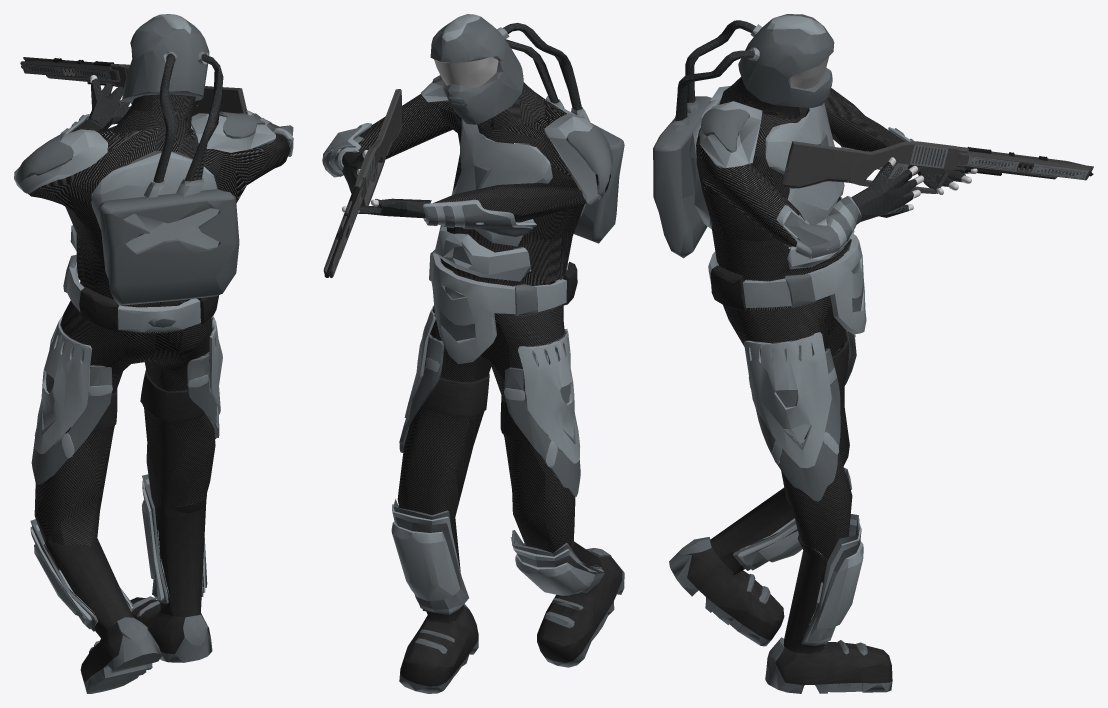
The model's file is AndarEscopeta.0011.obj.
3 renders of one model, left to right at view 1: azimuth 30°, elevation 25°; view 2: azimuth 150°, elevation 25°; view 3: azimuth 270°, elevation 25°, orthographic. The views are drawn at different scales.
Parts seen in each view (by area): view 1: personaje:extrudedSurface2 polySurface86, personaje:PANTALON polySurface86, personaje:bota1 polySurface86, personaje:CAMISETABUENA polySurface86, personaje:pPipe4 polySurface86, personaje:pCube4 polySurface86, personaje:cosoarmdaurapierna1 polySurface86, personaje:cinturon polySurface86, escopeta:Cylinder001 polySurface86, personaje:armadbota1 polySurface86, personaje:polySurface6 polySurface86, personaje:HOMBRO2 polySurface86 (+3 smaller); view 2: personaje:PANTALON polySurface86, personaje:CAMISETABUENA polySurface86, personaje:pPipe4 polySurface86, personaje:bota1 polySurface86, personaje:extrudedSurface2 polySurface86, personaje:cinturon polySurface86, personaje:pCube4 polySurface86, personaje:armadbota1 polySurface86, personaje:cosoarmdaurapierna1 polySurface86, escopeta:Cylinder001 polySurface86, personaje:polySurface6 polySurface86, personaje:polySurface2 polySurface86 (+7 smaller); view 3: personaje:bota1 polySurface86, personaje:CAMISETABUENA polySurface86, personaje:extrudedSurface2 polySurface86, personaje:pPipe4 polySurface86, personaje:pCube4 polySurface86, escopeta:Cylinder001 polySurface86, personaje:PANTALON polySurface86, personaje:cinturon polySurface86, personaje:armadbota1 polySurface86, personaje:cosoarmadurapierna2 polySurface86, personaje:hombro1 polySurface86, personaje:partearmdBRAZO2 polySurface86 (+1 smaller).
Boxes of the visible parts, x1=… form: personaje:extrudedSurface2 polySurface86: x1=98, y1=14, x2=239, y2=305; personaje:PANTALON polySurface86: x1=34, y1=281, x2=215, y2=570; personaje:bota1 polySurface86: x1=45, y1=495, x2=212, y2=693; personaje:CAMISETABUENA polySurface86: x1=26, y1=94, x2=289, y2=333; personaje:pPipe4 polySurface86: x1=14, y1=78, x2=293, y2=250; personaje:pCube4 polySurface86: x1=30, y1=301, x2=222, y2=631; personaje:cosoarmdaurapierna1 polySurface86: x1=34, y1=316, x2=112, y2=458; personaje:cinturon polySurface86: x1=63, y1=254, x2=218, y2=332; escopeta:Cylinder001 polySurface86: x1=20, y1=57, x2=247, y2=116; personaje:armadbota1 polySurface86: x1=30, y1=479, x2=205, y2=629; personaje:polySurface6 polySurface86: x1=91, y1=369, x2=205, y2=432; personaje:HOMBRO2 polySurface86: x1=15, y1=132, x2=73, y2=182; personaje:PANTALON polySurface86: x1=397, y1=271, x2=575, y2=552; personaje:CAMISETABUENA polySurface86: x1=339, y1=58, x2=610, y2=314; personaje:pPipe4 polySurface86: x1=323, y1=79, x2=605, y2=281; personaje:bota1 polySurface86: x1=399, y1=516, x2=624, y2=693; personaje:extrudedSurface2 polySurface86: x1=430, y1=14, x2=624, y2=243; personaje:cinturon polySurface86: x1=429, y1=243, x2=577, y2=363; personaje:pCube4 polySurface86: x1=392, y1=305, x2=604, y2=614; personaje:armadbota1 polySurface86: x1=391, y1=504, x2=603, y2=612; personaje:cosoarmdaurapierna1 polySurface86: x1=504, y1=329, x2=580, y2=468; escopeta:Cylinder001 polySurface86: x1=323, y1=89, x2=403, y2=277; personaje:polySurface6 polySurface86: x1=422, y1=374, x2=528, y2=441; personaje:polySurface2 polySurface86: x1=425, y1=204, x2=533, y2=236; personaje:bota1 polySurface86: x1=669, y1=487, x2=892, y2=693; personaje:CAMISETABUENA polySurface86: x1=696, y1=77, x2=905, y2=310; personaje:extrudedSurface2 polySurface86: x1=653, y1=14, x2=834, y2=258; personaje:pPipe4 polySurface86: x1=688, y1=86, x2=968, y2=269; personaje:pCube4 polySurface86: x1=733, y1=330, x2=860, y2=645; escopeta:Cylinder001 polySurface86: x1=782, y1=141, x2=1093, y2=193; personaje:PANTALON polySurface86: x1=723, y1=249, x2=852, y2=582; personaje:cinturon polySurface86: x1=708, y1=234, x2=866, y2=334; personaje:armadbota1 polySurface86: x1=737, y1=518, x2=863, y2=643; personaje:cosoarmadurapierna2 polySurface86: x1=749, y1=347, x2=840, y2=501; personaje:hombro1 polySurface86: x1=701, y1=108, x2=749, y2=152; personaje:partearmdBRAZO2 polySurface86: x1=776, y1=196, x2=861, y2=259.
Bounding box in the file's own units: 4.23 × 9.58 × 5.7.
